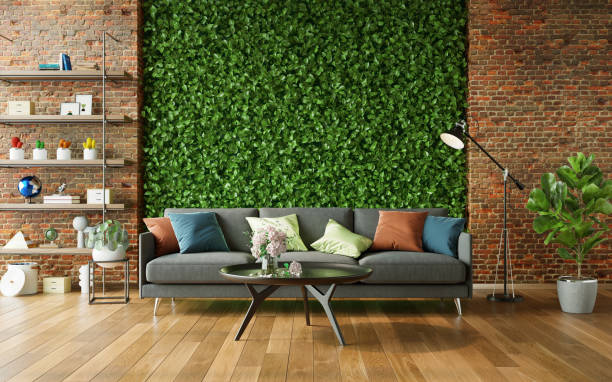floor lamp: (438, 114, 529, 305)
flower vase: (249, 221, 304, 278)
large plant: (532, 150, 610, 314)
small plant: (88, 220, 131, 268)
sofa: (135, 204, 473, 317)
table: (218, 261, 374, 349)
